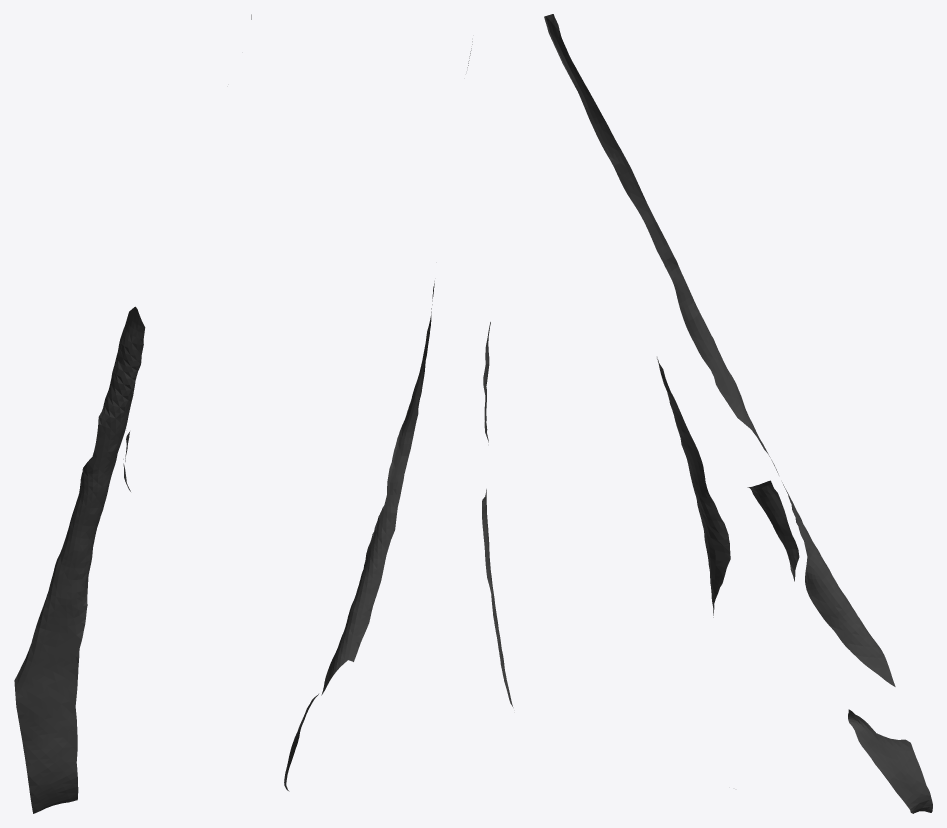
Rendered from eq_dist_limb_Interosseus.glb.
3 renders of one model, left to right at view 1: azimuth 30°, elevation 25°; view 2: azimuth 150°, elevation 25°; view 3: azimuth 270°, elevation 25°, orthographic. The views are drawn at different scales.
Visible parts, largest first — view 1: eq_dist_limb_Interosseus; view 2: eq_dist_limb_Interosseus; view 3: eq_dist_limb_Interosseus.
Boxes of the visible parts, x1=… form: eq_dist_limb_Interosseus: x1=14, y1=14, x2=251, y2=813; eq_dist_limb_Interosseus: x1=284, y1=41, x2=513, y2=791; eq_dist_limb_Interosseus: x1=544, y1=14, x2=932, y2=813.
Size of the model in its own units: 0.0073 by 0.0313 by 0.0132.
1 material, 1 textured.
